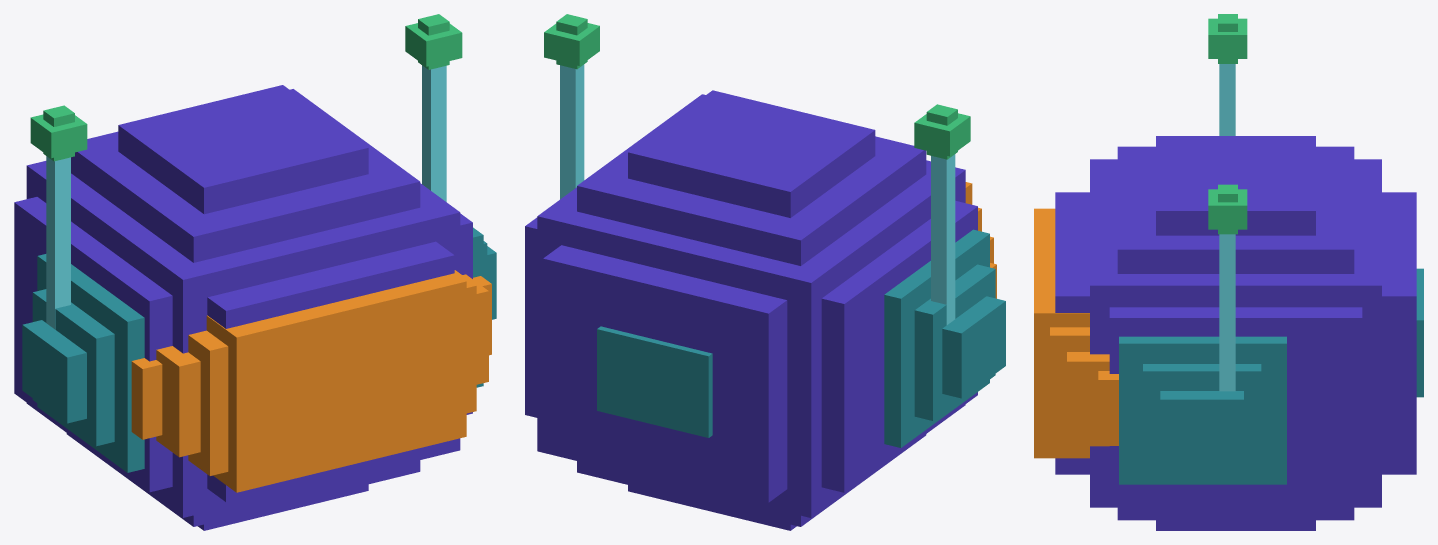
The model's file is robohead_scene.dae.
3 renders of one model, left to right at view 1: azimuth 30°, elevation 25°; view 2: azimuth 150°, elevation 25°; view 3: azimuth 270°, elevation 25°, orthographic. The views are drawn at different scales.
Visible parts, largest first — view 1: Box (×18); view 2: Box (×15); view 3: Box (×19).
Part boxes in pixels (x1=…): Box (×18): x1=14, y1=14, x2=491, y2=530; Box (×15): x1=525, y1=14, x2=1005, y2=530; Box (×19): x1=1034, y1=14, x2=1423, y2=530.
Size of the model in its own units: 3.62 by 3.36 by 3.05.
